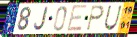0: (53, 5, 68, 33)
8: (17, 6, 32, 32)
E: (66, 4, 89, 33)
J: (33, 6, 49, 31)
P: (85, 5, 105, 33)
U: (103, 5, 123, 32)
